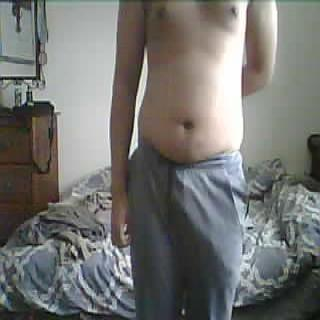Blue Sweatpants: (120, 134, 250, 320)
